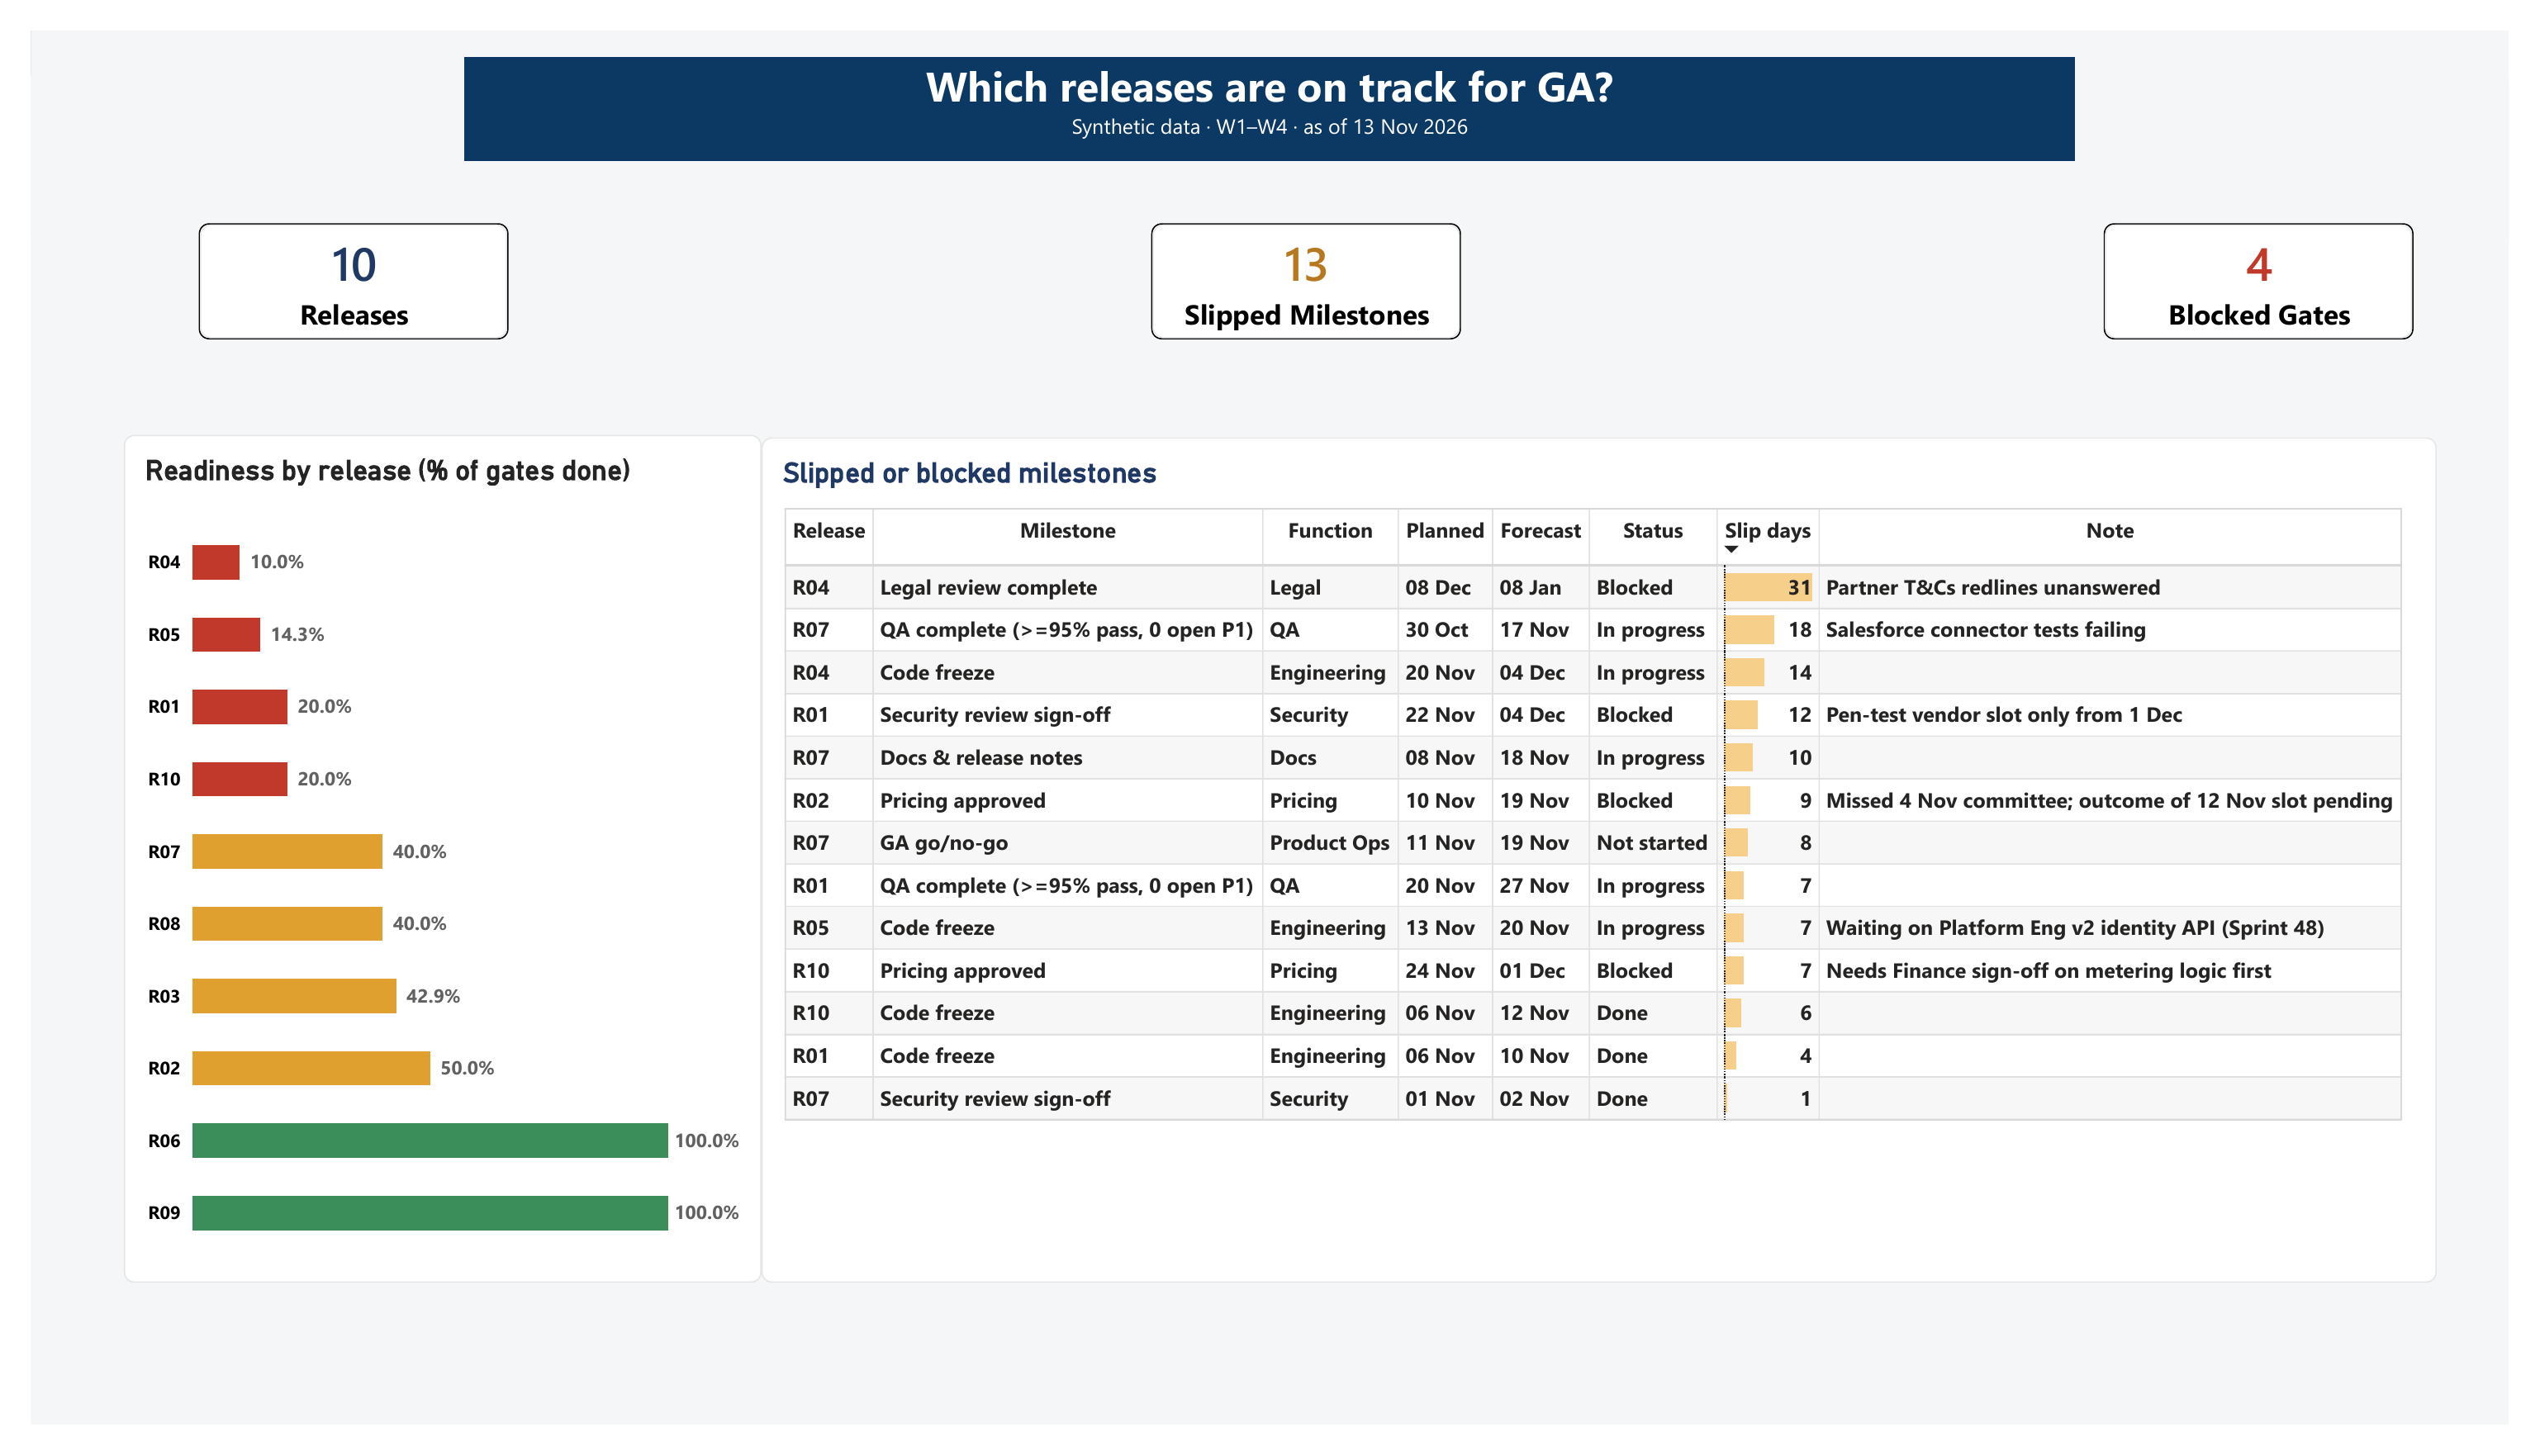

This screenshot's page, from the dashboard's own definition file:
{"tool":"powerbi","page":{"name":"Readiness and Risk","canvas":[1920,1080],"ordinal":1},"visuals":[{"type":"clusteredBarChart","title":"Readiness by release (% of gates done)","fields":{"Category":["Milestones.release_id"],"Y":["Milestones.Readiness %"]},"box":[72.4,313.1,494,656.9],"z":1000},{"type":"tableEx","title":"Slipped or blocked milestones","fields":{"Values":["Milestones.release_id","Milestones.milestone","Milestones.owner_function","Milestones.planned_date","Milestones.forecast_date","Milestones.status","Sum(Milestones.Slip Days)","Milestones.note"]},"box":[566.4,314.9,1297.5,655.1],"z":2000},{"type":"textbox","box":[335.7,19.9,1248.7,81.4],"z":3000},{"type":"cardVisual","fields":{"Data":["Milestones.Releases"]},"box":[130,149,240,90],"z":5000},{"type":"cardVisual","fields":{"Data":["Milestones.Blocked Gates"]},"box":[1606,149,240,90],"z":6000},{"type":"cardVisual","fields":{"Data":["Milestones.Slipped Milestones"]},"box":[868,149,240,90],"z":7000}]}

Visuals, with their boxes on the page's 1920x1080 design canvas (x1, y1, x2, y2). These are canvas units, not pixel positions in the 2540x1456 screenshot, which may show the page scaled, cropped or inside an application window:
"Readiness by release (% of gates done)" clusteredBarChart: 72, 313, 566, 970
"Slipped or blocked milestones" tableEx: 566, 315, 1864, 970
textbox: 336, 20, 1584, 101
cardVisual - Milestones.Releases: 130, 149, 370, 239
cardVisual - Milestones.Blocked Gates: 1606, 149, 1846, 239
cardVisual - Milestones.Slipped Milestones: 868, 149, 1108, 239
